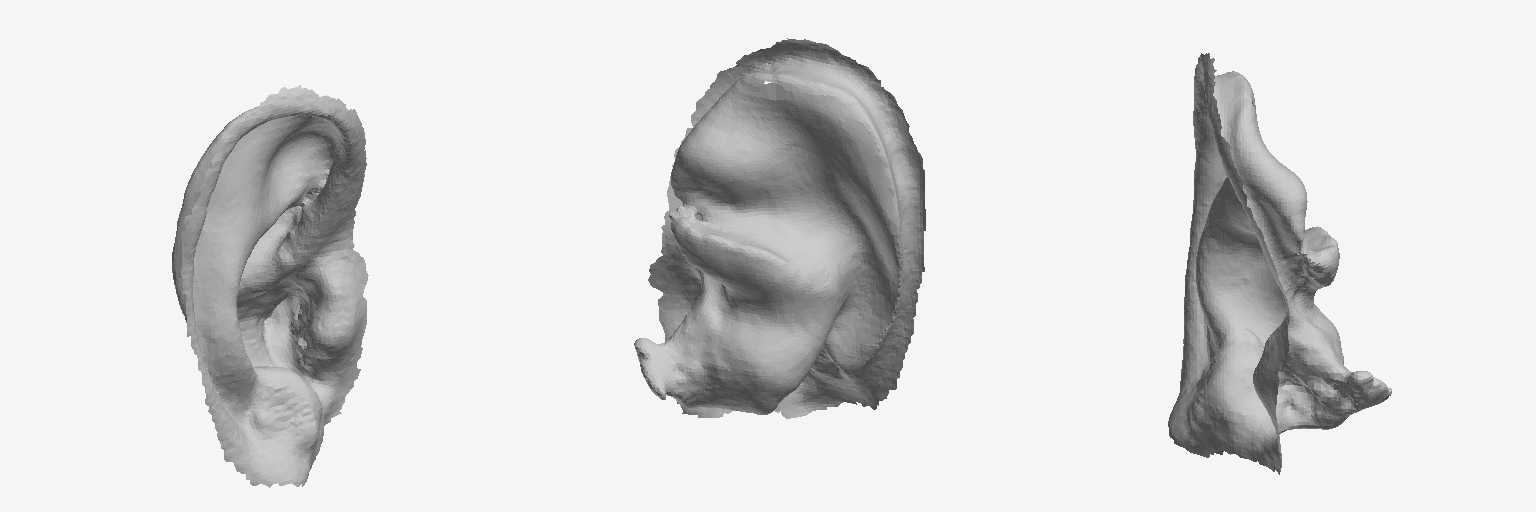
The model's file is with_drum.obj.
The picture shows the model from 3 angles: view 1: azimuth 30°, elevation 25°; view 2: azimuth 150°, elevation 25°; view 3: azimuth 270°, elevation 25°; orthographic projection.
Parts seen in each view (by area): view 1: Ear_obj; view 2: Ear_obj; view 3: Ear_obj.
Boxes of the visible parts, box(x1,y1,x2,y2) form: Ear_obj: box(172, 85, 368, 487); Ear_obj: box(634, 38, 925, 418); Ear_obj: box(1168, 53, 1391, 474).
Size of the model in its own units: 35.07 by 55.85 by 29.29.